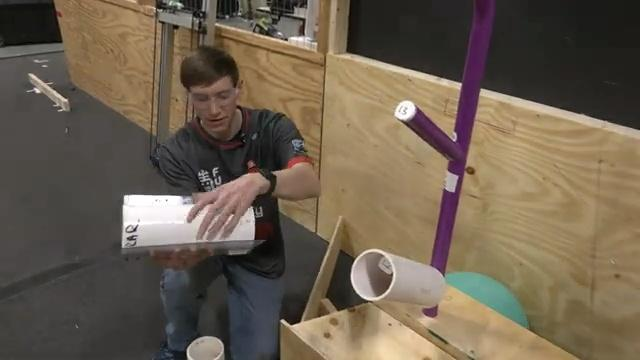CORAL: (119, 193, 255, 260), (349, 247, 446, 308)
